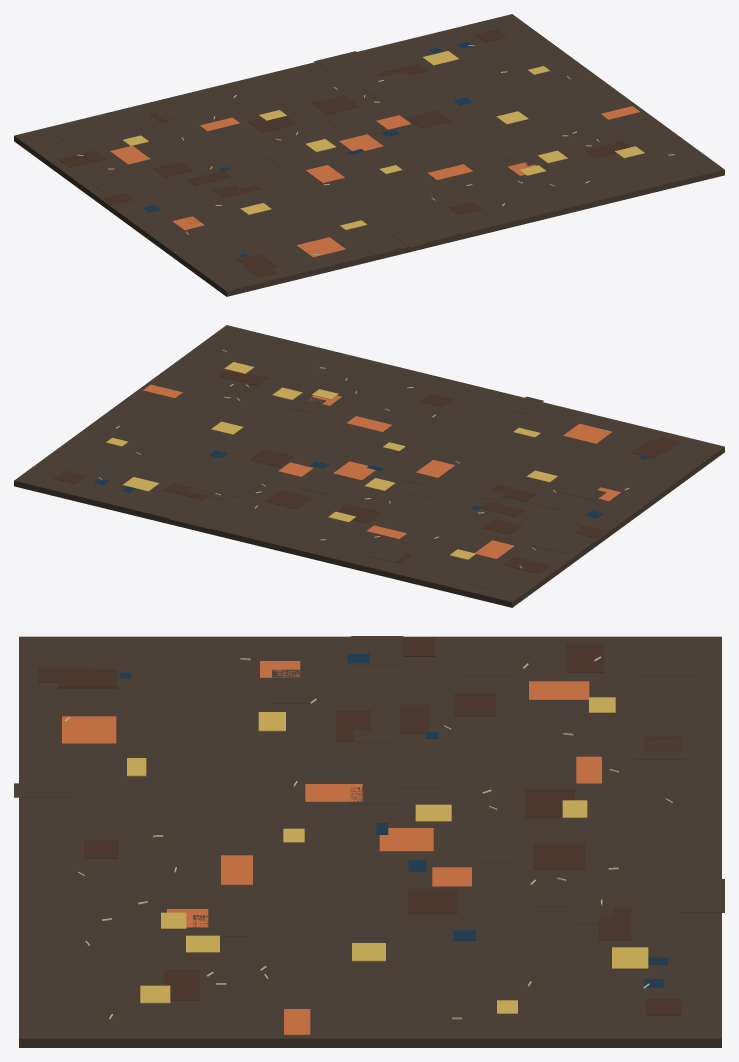
The model's file is warren_floor.glb.
3 views of the same model, one above another, from view 1: azimuth 30°, elevation 25°; view 2: azimuth 150°, elevation 25°; view 3: azimuth 270°, elevation 25° (orthographic). The views are drawn at different scales.
Visible parts, largest first — view 1: earth; view 2: earth; view 3: earth.
Part boxes in pixels (left/top/right/bottom): earth: left=14, top=14, right=724, bottom=296; earth: left=14, top=325, right=724, bottom=607; earth: left=14, top=636, right=724, bottom=1047.
Size of the model in its own units: 46.04 by 0.59 by 34.39.
